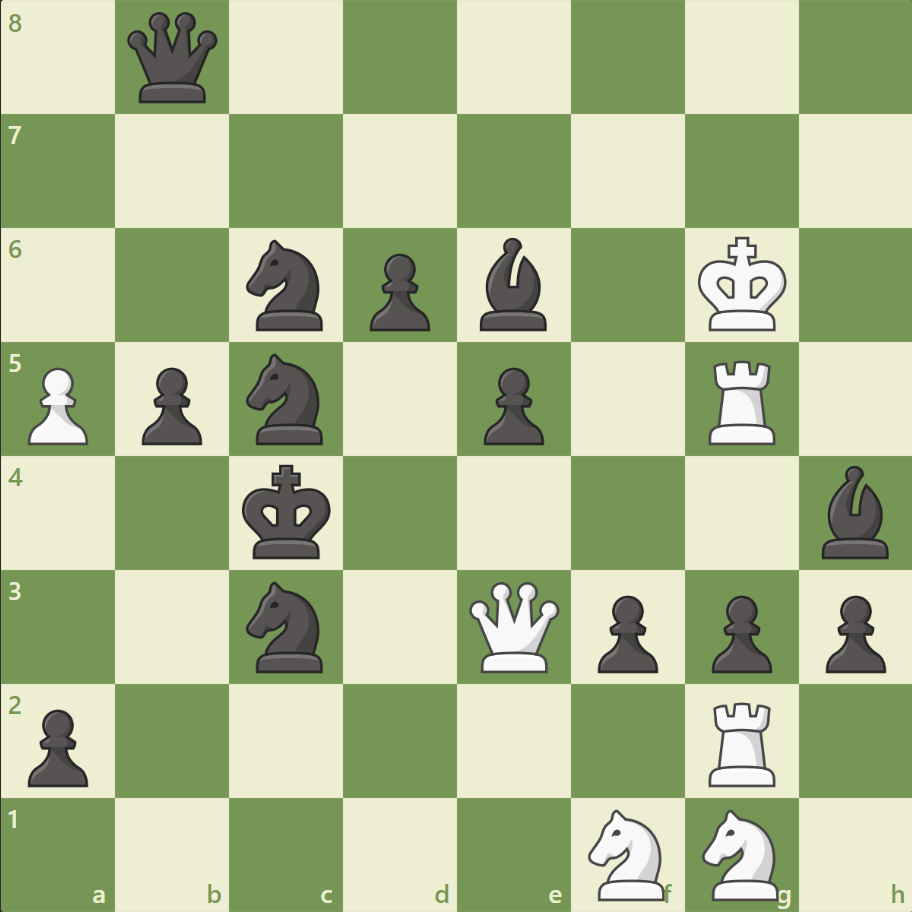K: (692, 231, 792, 339)
N: (579, 802, 676, 904), (692, 802, 789, 904)
P: (20, 359, 95, 450)
Q: (464, 576, 563, 676)
R: (700, 352, 783, 449), (700, 693, 783, 790)
b: (471, 233, 555, 336), (812, 460, 896, 563)
k: (238, 458, 338, 566)
n: (238, 234, 335, 337), (238, 348, 335, 450), (238, 575, 335, 677)
p: (133, 359, 208, 450), (474, 359, 549, 450), (701, 586, 776, 677), (20, 700, 95, 791), (361, 246, 435, 337), (588, 586, 662, 677), (815, 586, 889, 677)
q: (124, 9, 223, 108)
